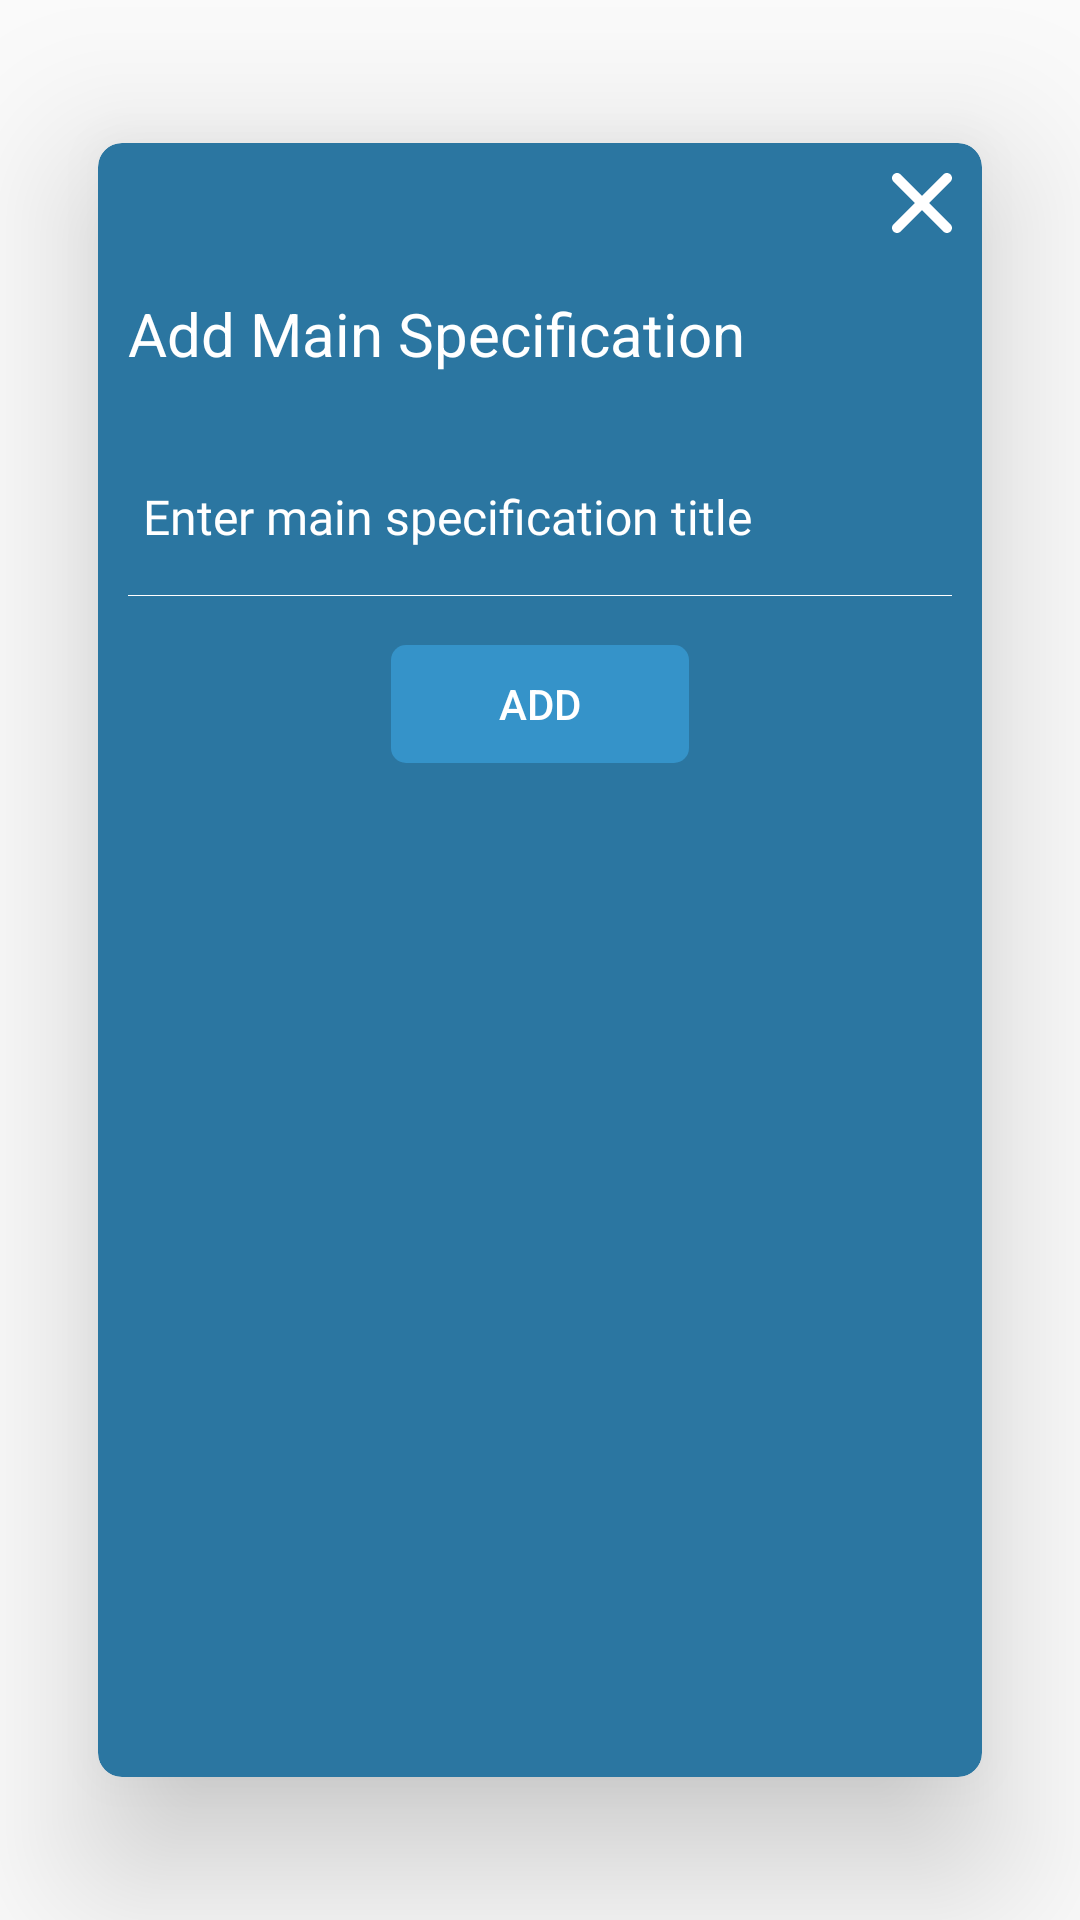

Screen size 1080*1920. Icon name, then its center in pixels as point (x, y):
cancel: point (922, 203)
